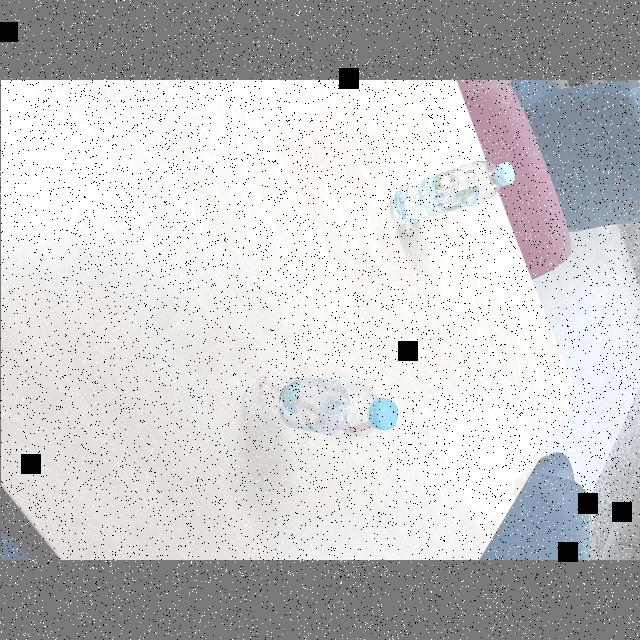plastic_bottle: (238, 372, 398, 442), (388, 160, 518, 224)
plastic_bottle_cap: (367, 398, 397, 430), (492, 160, 514, 186)
straw: (262, 380, 372, 436)
